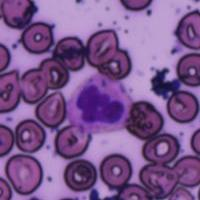N: (66, 73, 132, 135)
